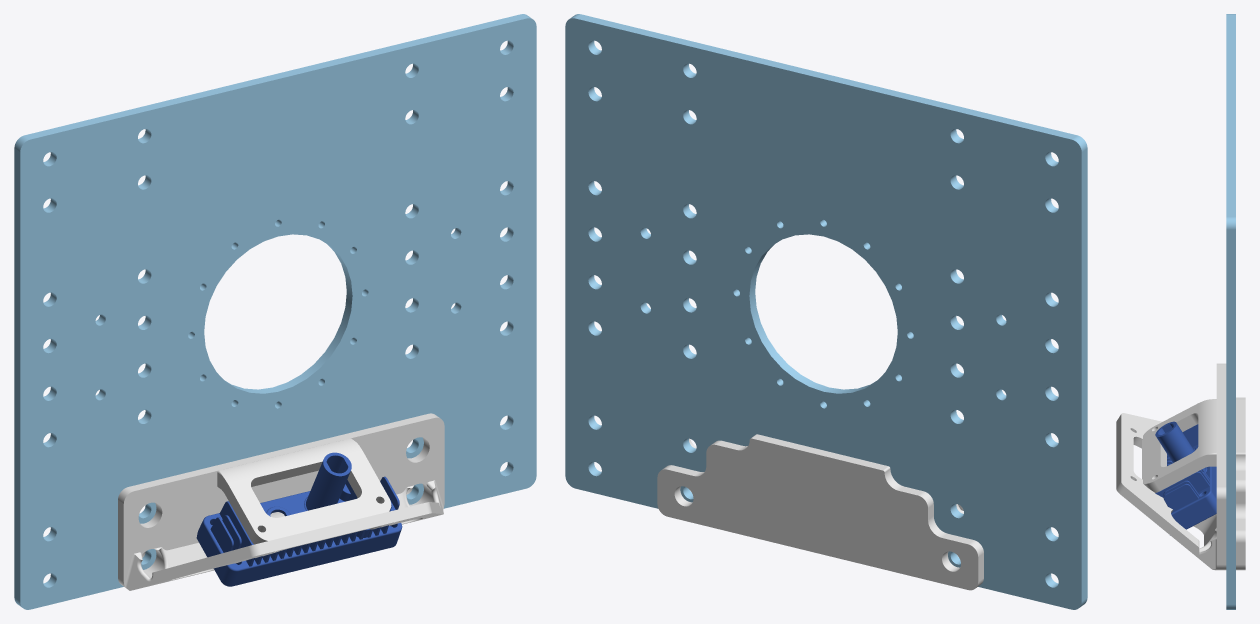
Rendered from plate.obj.
The picture shows the model from 3 angles, left to right: view 1: azimuth 30°, elevation 25°; view 2: azimuth 150°, elevation 25°; view 3: azimuth 270°, elevation 25°; orthographic projection. The views are drawn at different scales.
Visible parts, largest first — view 1: mesh1147, mesh1124, mesh46, mesh1153, mesh1151, mesh426, mesh33, mesh1104, mesh1106, mesh1085, mesh1146, mesh290 (+2 smaller); view 2: mesh1148, mesh27, mesh1153, mesh1151, mesh1146, mesh28; view 3: mesh1149, mesh1135, mesh1151, mesh46, mesh1102, mesh28, mesh33, mesh1085, mesh31, mesh290, mesh1083, mesh428 (+5 smaller).
Part boxes in pixels (x1=…): mesh1147: x1=20, y1=18, x2=536, y2=609; mesh1124: x1=123, y1=417, x2=444, y2=584; mesh46: x1=228, y1=452, x2=391, y2=540; mesh1153: x1=14, y1=148, x2=20, y2=601; mesh1151: x1=25, y1=14, x2=526, y2=139; mesh426: x1=233, y1=533, x2=396, y2=586; mesh33: x1=219, y1=438, x2=362, y2=484; mesh1104: x1=259, y1=503, x2=426, y2=554; mesh1106: x1=126, y1=546, x2=250, y2=590; mesh1085: x1=128, y1=413, x2=433, y2=490; mesh1146: x1=225, y1=244, x2=352, y2=393; mesh290: x1=306, y1=460, x2=350, y2=510; mesh1148: x1=565, y1=18, x2=1081, y2=609; mesh27: x1=657, y1=438, x2=978, y2=590; mesh1153: x1=1081, y1=148, x2=1087, y2=601; mesh1151: x1=575, y1=14, x2=1076, y2=139; mesh1146: x1=749, y1=244, x2=876, y2=393; mesh28: x1=752, y1=434, x2=888, y2=470; mesh1149: x1=1226, y1=229, x2=1235, y2=604; mesh1135: x1=1121, y1=413, x2=1197, y2=545; mesh1151: x1=1226, y1=15, x2=1235, y2=216; mesh46: x1=1142, y1=403, x2=1198, y2=483; mesh1102: x1=1120, y1=487, x2=1215, y2=569; mesh28: x1=1217, y1=399, x2=1245, y2=452; mesh33: x1=1198, y1=399, x2=1216, y2=457; mesh1085: x1=1216, y1=364, x2=1226, y2=486; mesh31: x1=1154, y1=455, x2=1216, y2=490; mesh290: x1=1156, y1=423, x2=1205, y2=470; mesh1083: x1=1216, y1=499, x2=1226, y2=564; mesh428: x1=1172, y1=498, x2=1215, y2=528.
Bounding box in the file's own units: 0.3271 × 0.2846 × 0.085.
